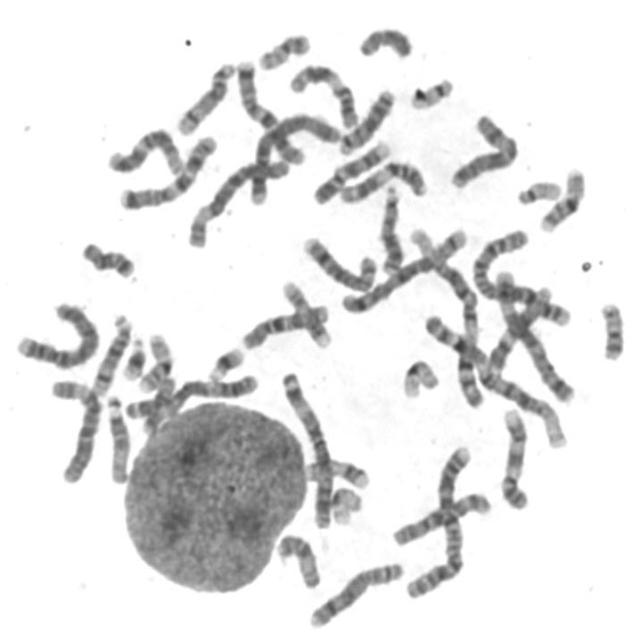A1: (416, 306, 572, 451), (404, 219, 488, 410)
A2: (399, 437, 475, 602), (466, 223, 574, 330)
A3: (275, 364, 336, 531), (120, 366, 262, 424)
B4: (243, 105, 344, 207), (9, 295, 102, 371)
B5: (335, 221, 471, 316), (490, 261, 578, 406)
C10: (384, 483, 495, 550), (235, 295, 332, 352)
C11: (282, 56, 362, 130), (332, 154, 430, 206)
C12: (482, 278, 557, 374), (101, 121, 186, 178)
C6: (180, 151, 293, 250), (43, 372, 102, 486)
C7: (113, 127, 220, 211), (230, 53, 307, 167)
C8: (303, 554, 407, 632), (297, 228, 380, 294)
C9: (307, 132, 395, 205), (494, 399, 532, 511)
D13: (333, 82, 397, 156), (374, 178, 406, 276)
D14: (169, 55, 238, 137), (84, 307, 134, 397)
D15: (271, 527, 324, 591), (101, 388, 132, 485)
E16: (533, 159, 588, 234), (133, 327, 176, 394)
E17: (276, 272, 334, 350), (299, 451, 372, 491)
E18: (138, 369, 183, 439), (75, 234, 137, 281)
F19: (397, 353, 442, 400), (324, 480, 364, 527)
F20: (252, 26, 313, 71), (594, 294, 628, 363)
G21: (200, 339, 247, 383), (116, 329, 148, 382)
G22: (404, 70, 456, 111), (511, 172, 563, 206)
X: (444, 106, 522, 191)
Y: (352, 19, 416, 61)
